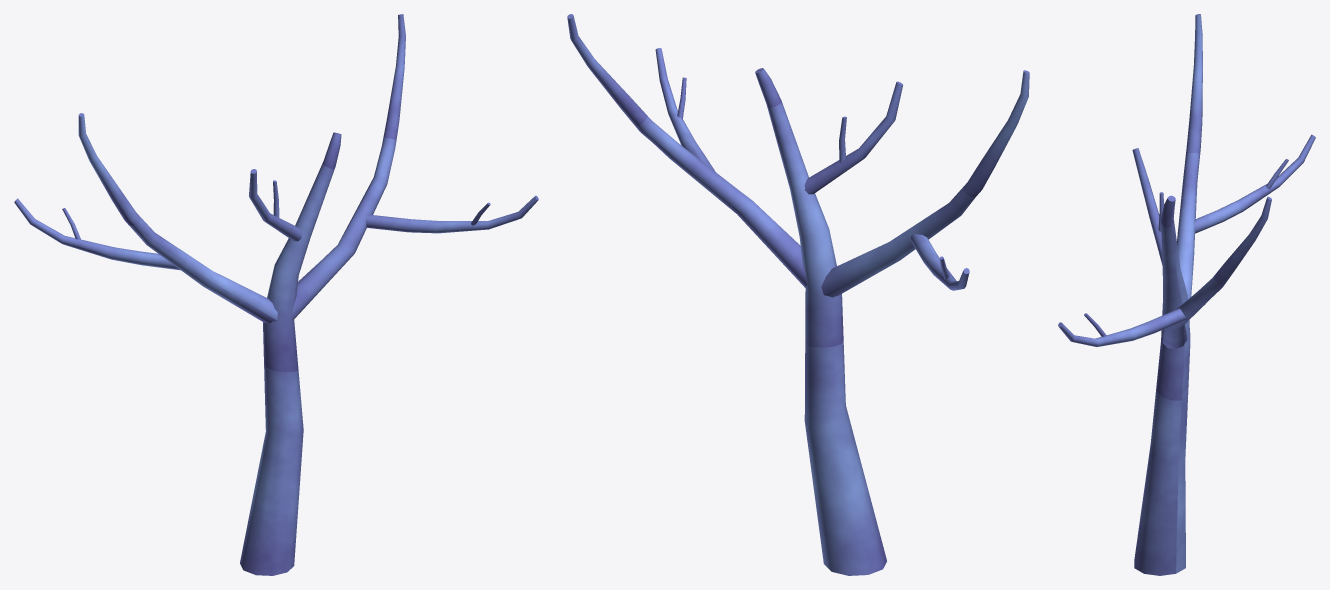
The model's file is DeadTree_5.obj.
3 renders of one model, left to right at view 1: azimuth 30°, elevation 25°; view 2: azimuth 150°, elevation 25°; view 3: azimuth 270°, elevation 25°, orthographic. The views are drawn at different scales.
Parts seen in each view (by area): view 1: DeadTree_5_Cylinder.041; view 2: DeadTree_5_Cylinder.041; view 3: DeadTree_5_Cylinder.041.
Boxes of the visible parts, x1=… form: DeadTree_5_Cylinder.041: x1=14, y1=14, x2=538, y2=575; DeadTree_5_Cylinder.041: x1=567, y1=14, x2=1029, y2=575; DeadTree_5_Cylinder.041: x1=1058, y1=14, x2=1315, y2=575.
Size of the model in its own units: 5.24 by 6.02 by 2.99.
1 material, 1 textured.
